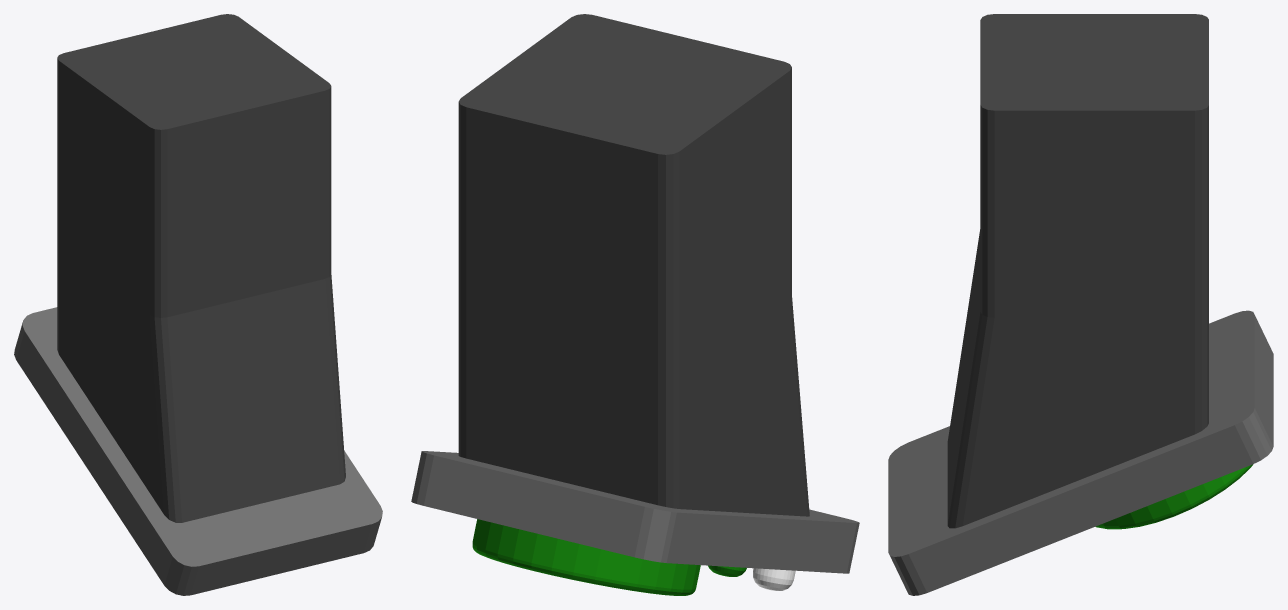
The model's file is ANM_ENV_FUT_BEDIENFELD_Up.fbx.
The picture shows the model from 3 angles, left to right: view 1: azimuth 30°, elevation 25°; view 2: azimuth 150°, elevation 25°; view 3: azimuth 270°, elevation 25°; orthographic projection. The views are drawn at different scales.
Visible parts, largest first — view 1: Cube.002, Hauptkörper.002; view 2: Cube.002, Hauptkörper.002, Button.002, rot.002; view 3: Cube.002, Hauptkörper.002, Button.002.
Boxes of the visible parts, x1,y1,x2,y2 form: Cube.002: (57, 14, 345, 522); Hauptkörper.002: (14, 307, 382, 595); Cube.002: (458, 14, 809, 516); Hauptkörper.002: (411, 451, 859, 573); Button.002: (472, 519, 700, 595); rot.002: (753, 568, 795, 590); Cube.002: (947, 14, 1208, 528); Hauptkörper.002: (888, 310, 1273, 595); Button.002: (1095, 464, 1253, 529).
Bounding box in the file's own units: 132 × 267 × 193.
